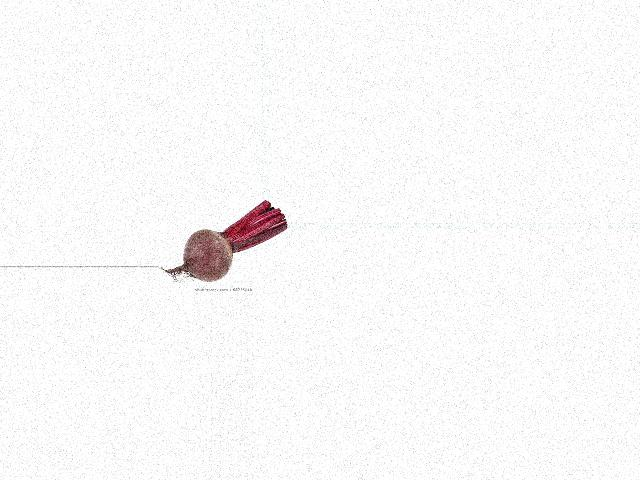beet: (161, 201, 287, 281)
